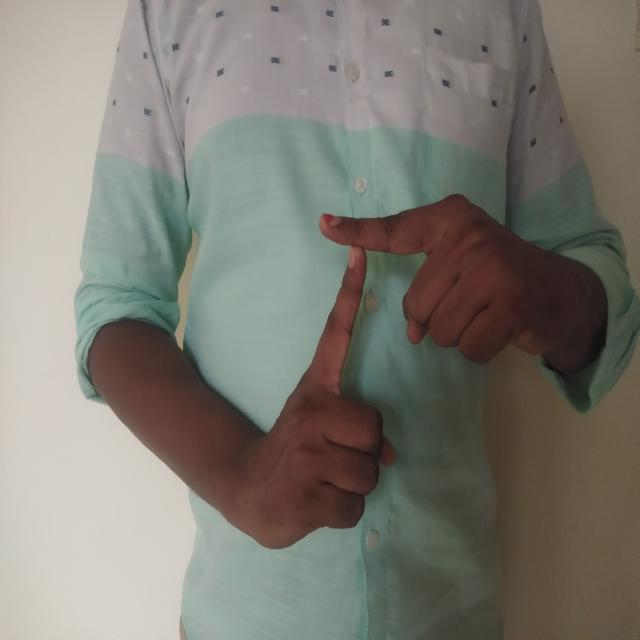T: (249, 171, 549, 555)
